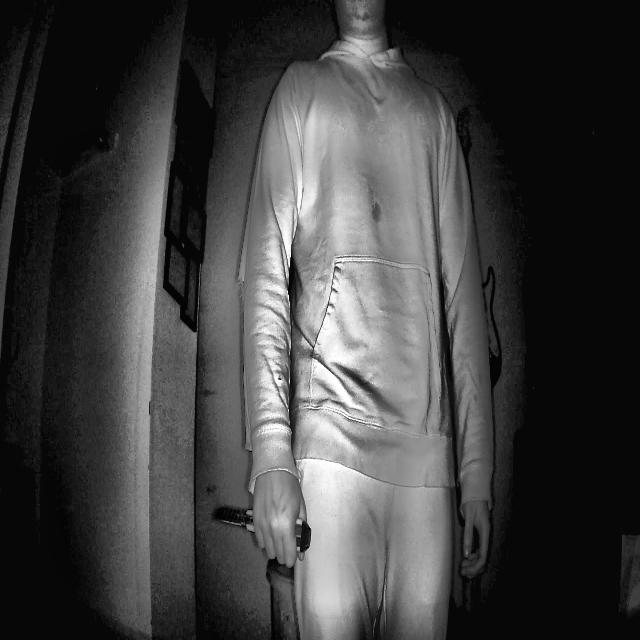knife: (203, 458, 312, 584)
